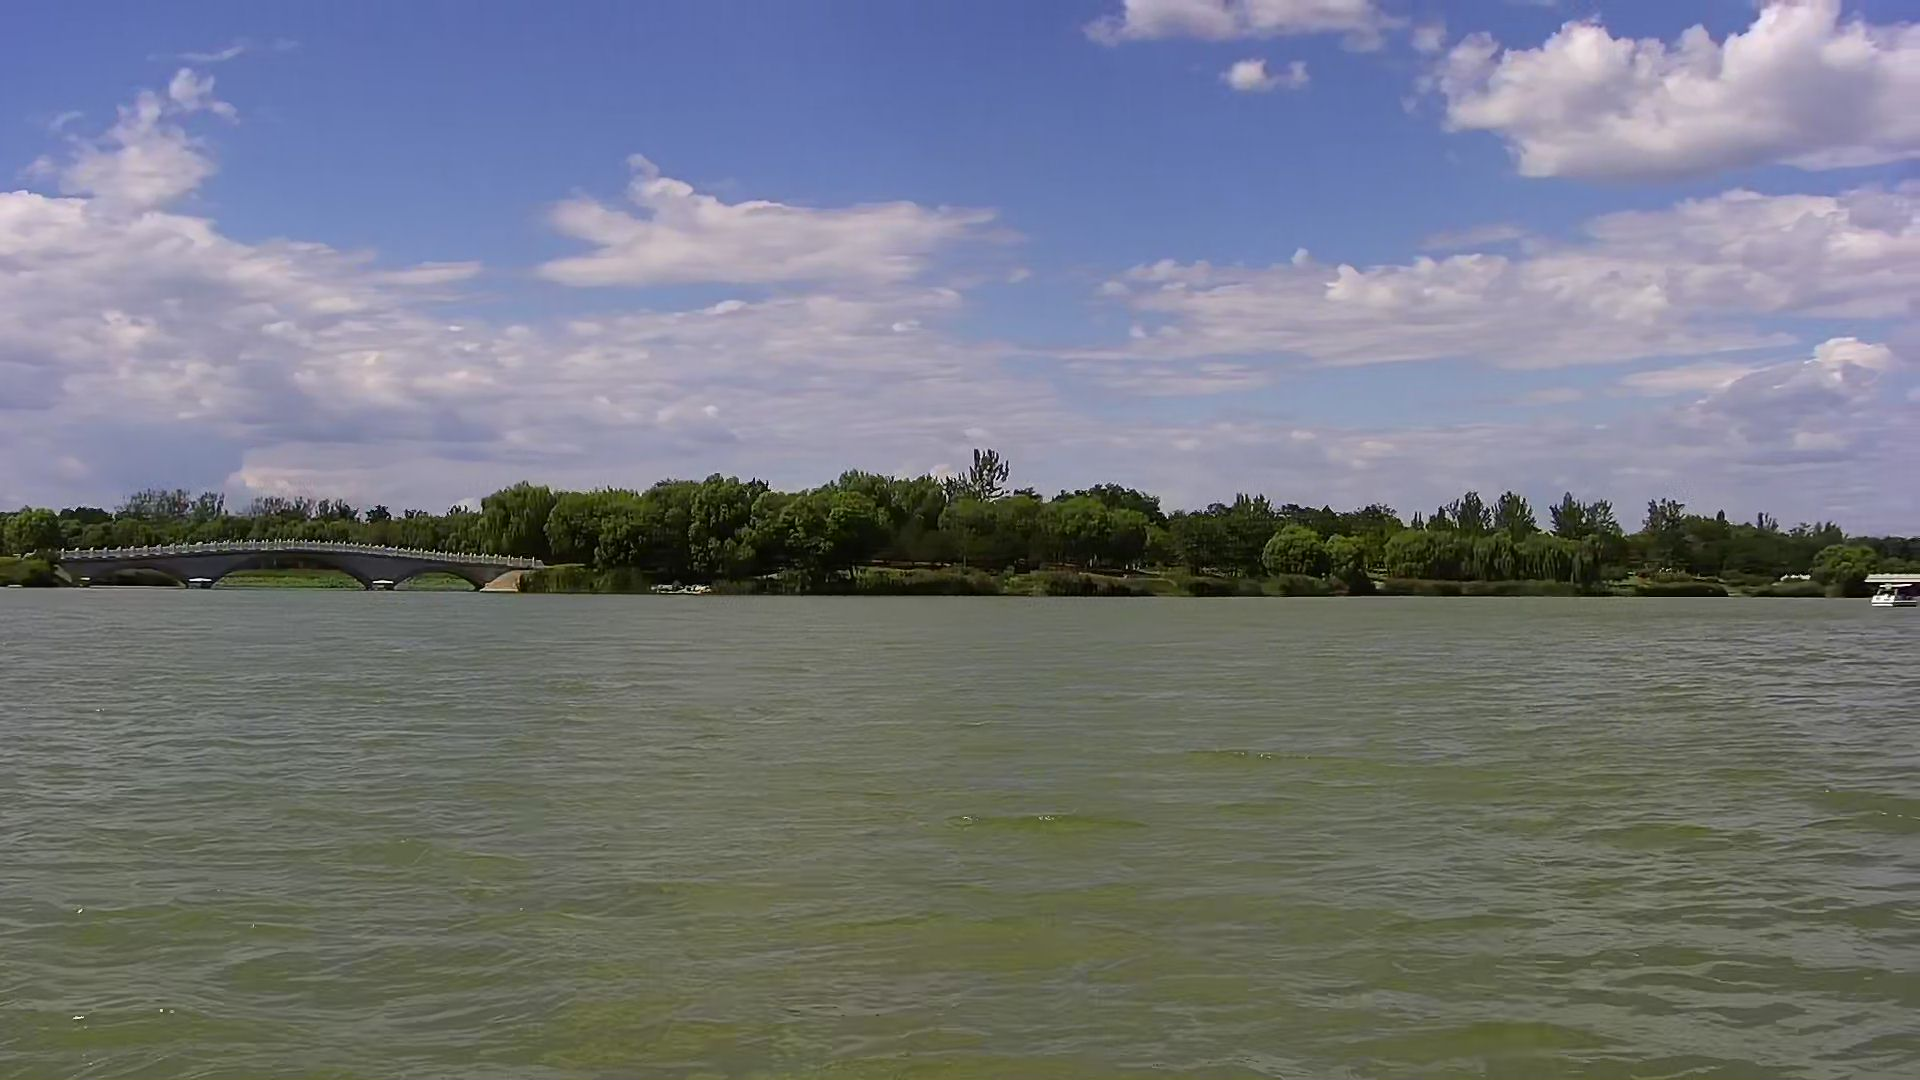bridge: (51, 541, 541, 595)
